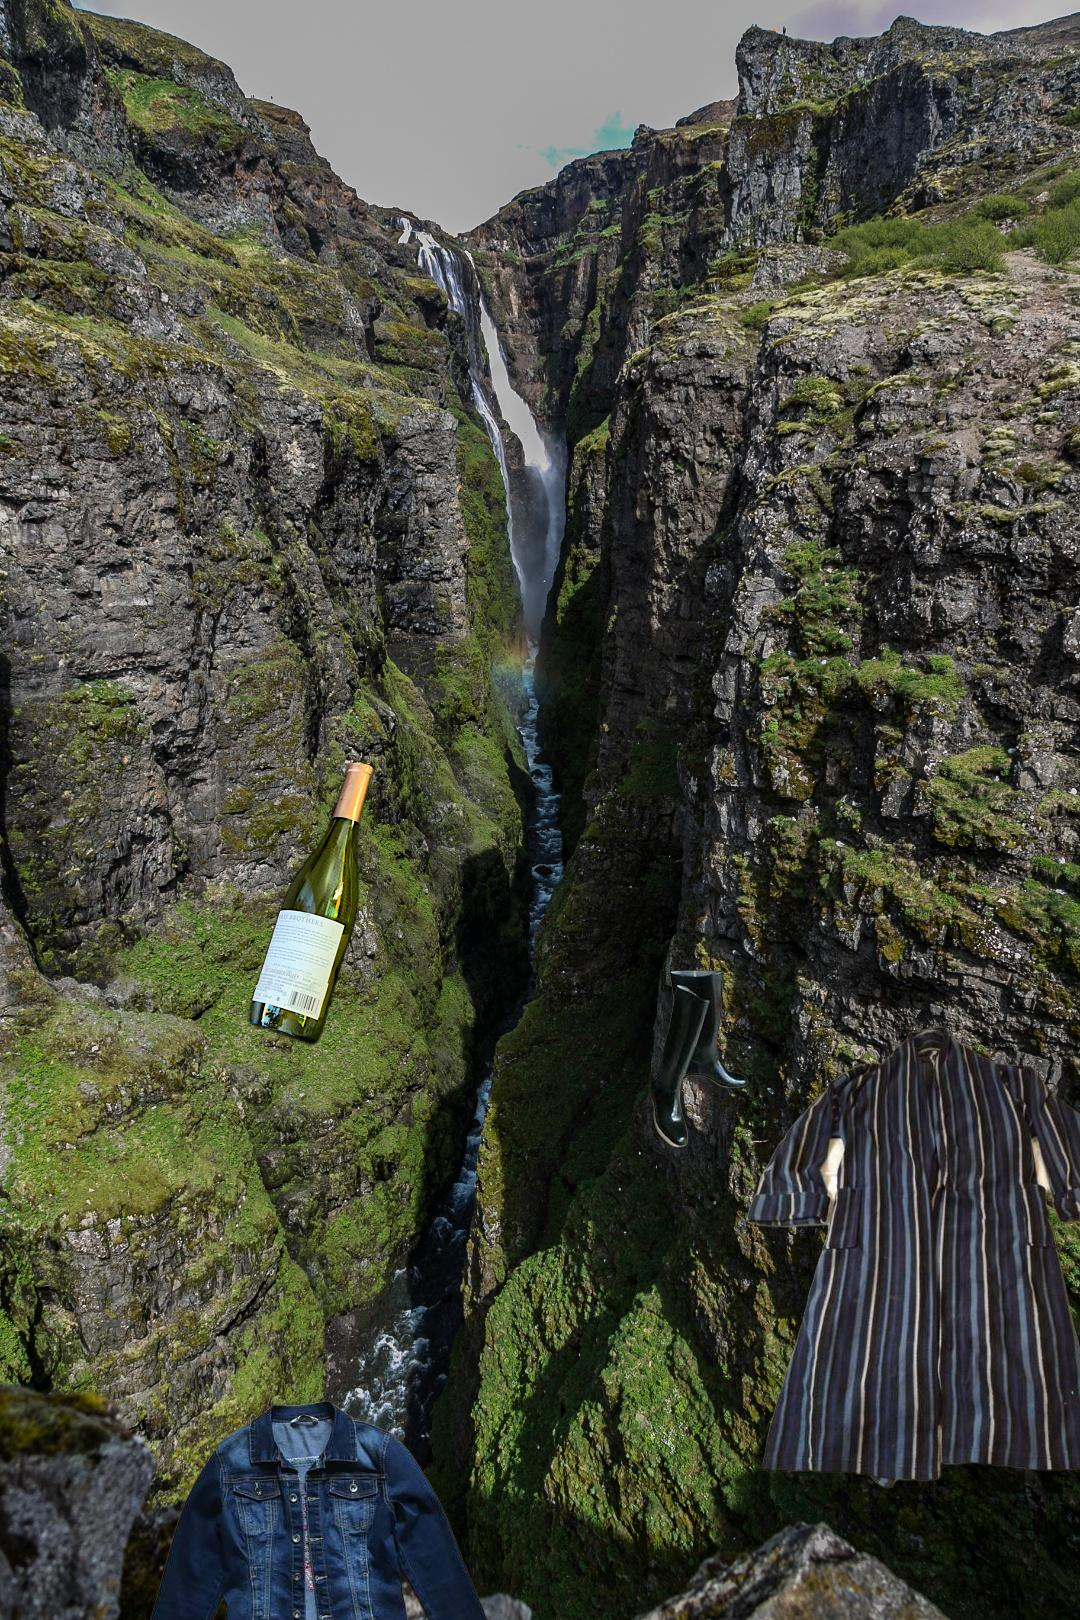clothes: (744, 1022, 1080, 1493), (128, 1397, 501, 1620)
glass: (245, 642, 466, 1050)
shoes: (642, 967, 752, 1150)
